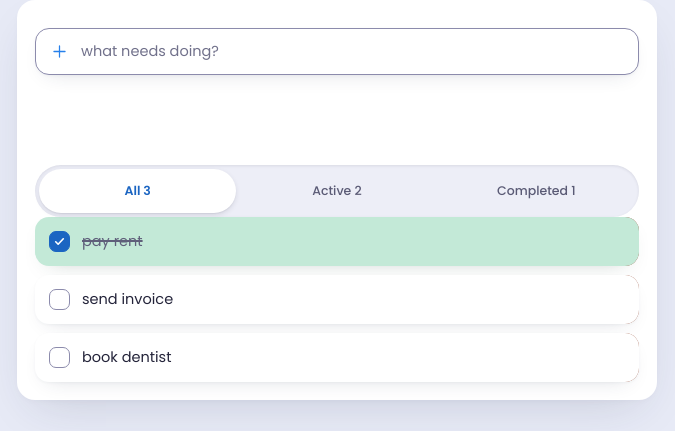
Test case: the Filter Views, through the mounted card (Story 4.3) › puts a departed row back where it was, with the message (AC1, AC3)
The image size is (675, 431).
Click the tab "Active 2": (337, 191) [238,169,436,213]
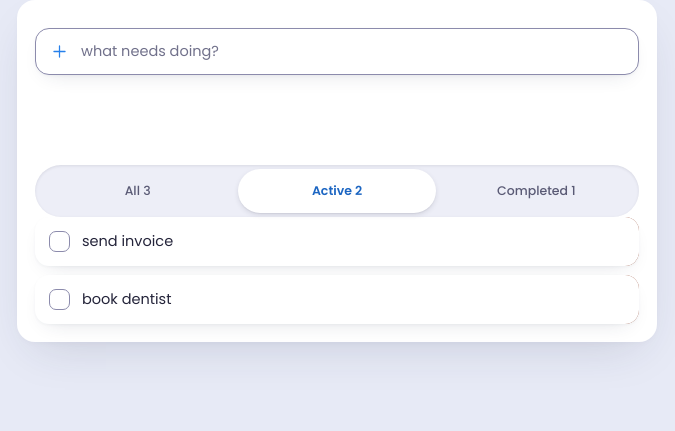
Click the checkbox next to "send invoice": (60, 242) [49,231,70,252]
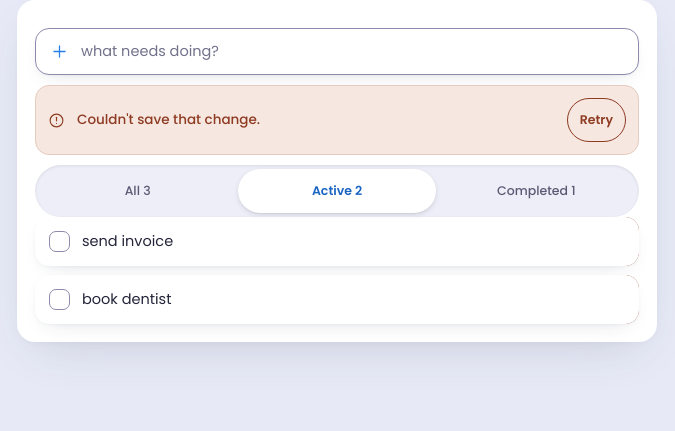
Expected: the text "Couldn't save that change." is shown, [77,111,260,130]
